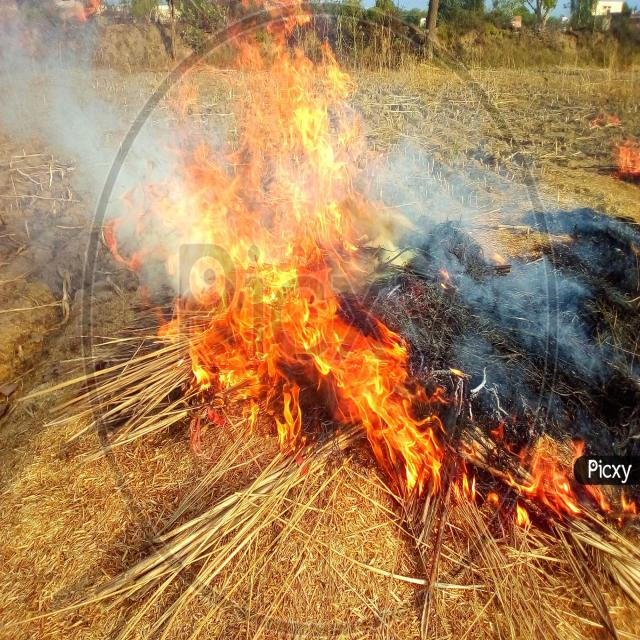fire: (151, 150, 391, 440), (225, 2, 362, 144), (394, 385, 481, 503), (514, 436, 586, 525)
smoke: (0, 41, 139, 202), (406, 144, 534, 303), (539, 257, 594, 376)
